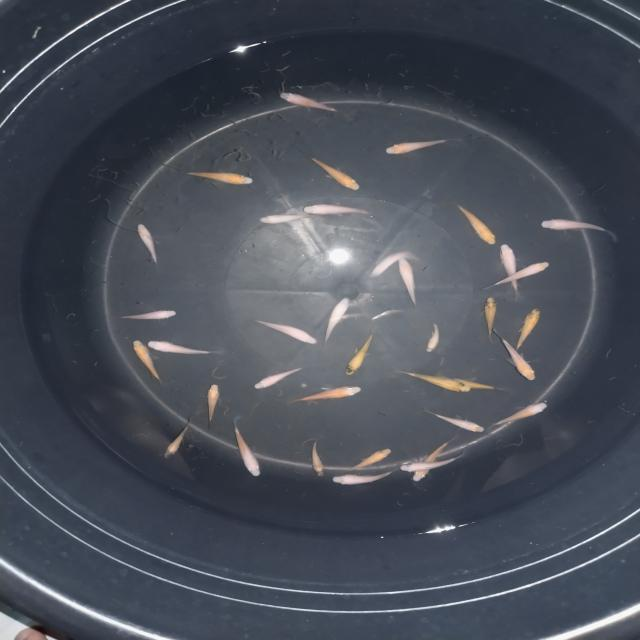nila: (468, 258, 556, 294), (488, 329, 540, 384), (447, 199, 500, 248), (536, 214, 624, 243), (304, 152, 364, 194), (409, 434, 457, 486), (341, 324, 381, 377), (275, 88, 346, 117), (230, 418, 264, 478), (418, 405, 486, 435), (486, 401, 550, 432), (254, 317, 322, 346), (396, 368, 471, 394), (318, 298, 352, 350), (176, 166, 256, 188), (393, 256, 423, 314), (131, 337, 165, 386), (287, 383, 362, 405), (143, 337, 225, 357), (160, 414, 193, 461), (511, 306, 544, 352), (496, 242, 524, 296), (446, 373, 511, 396), (384, 136, 458, 156), (250, 364, 306, 390), (398, 452, 468, 472), (343, 446, 393, 474), (370, 248, 416, 278), (134, 219, 162, 266), (330, 471, 408, 486), (298, 202, 376, 217), (113, 307, 179, 324), (254, 212, 331, 226), (203, 383, 221, 434), (307, 438, 328, 480), (422, 320, 445, 354), (482, 294, 497, 340)
